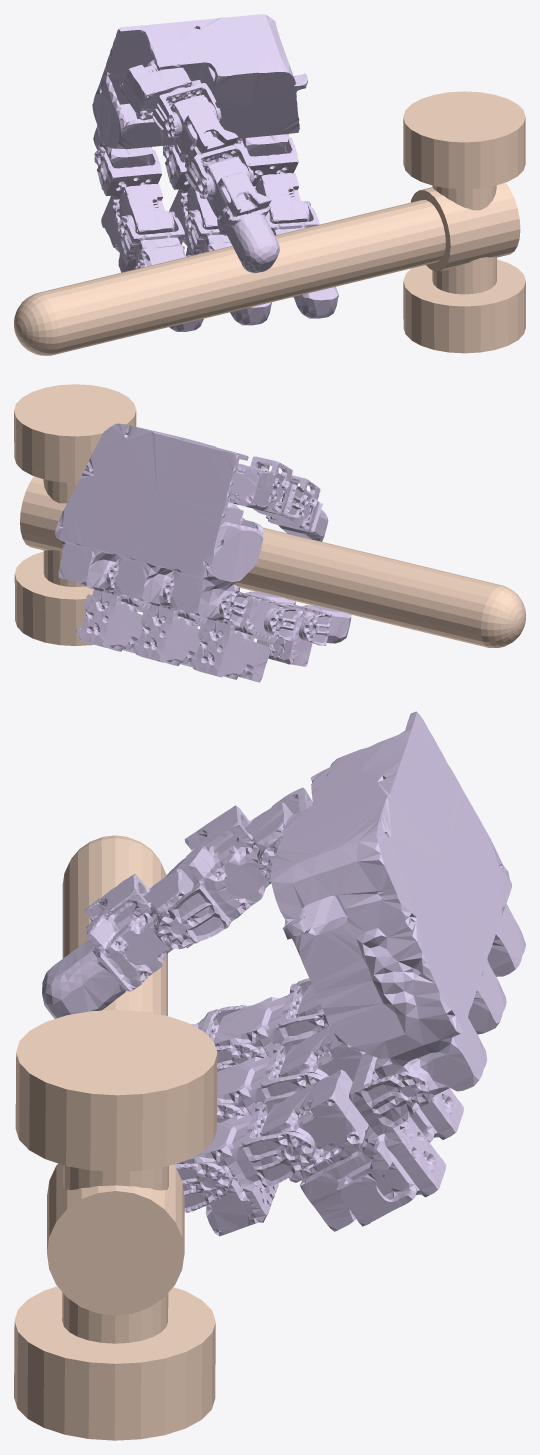
Rendered from b4bdf6113b5f63-closed.glb.
The picture shows the model from 3 angles, top to bottom: view 1: azimuth 30°, elevation 25°; view 2: azimuth 150°, elevation 25°; view 3: azimuth 270°, elevation 25°; orthographic projection. The views are drawn at different scales.
Visible parts, largest first — view 1: world, LEAP_hand; view 2: LEAP_hand, world; view 3: LEAP_hand, world.
Boxes of the visible parts, box(x1,y1,x2,y2) form: world: box(14, 91, 525, 355); LEAP_hand: box(92, 14, 338, 331); LEAP_hand: box(55, 423, 351, 682); world: box(14, 384, 525, 647); LEAP_hand: box(42, 711, 525, 1236); world: box(14, 835, 217, 1440).
Size of the model in its own units: 0.3581 by 0.202 by 0.1933.
